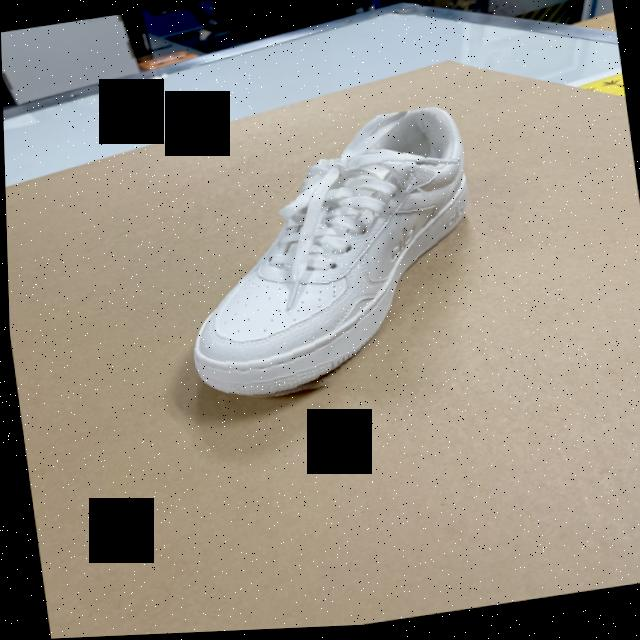shoe: (162, 106, 493, 413)
